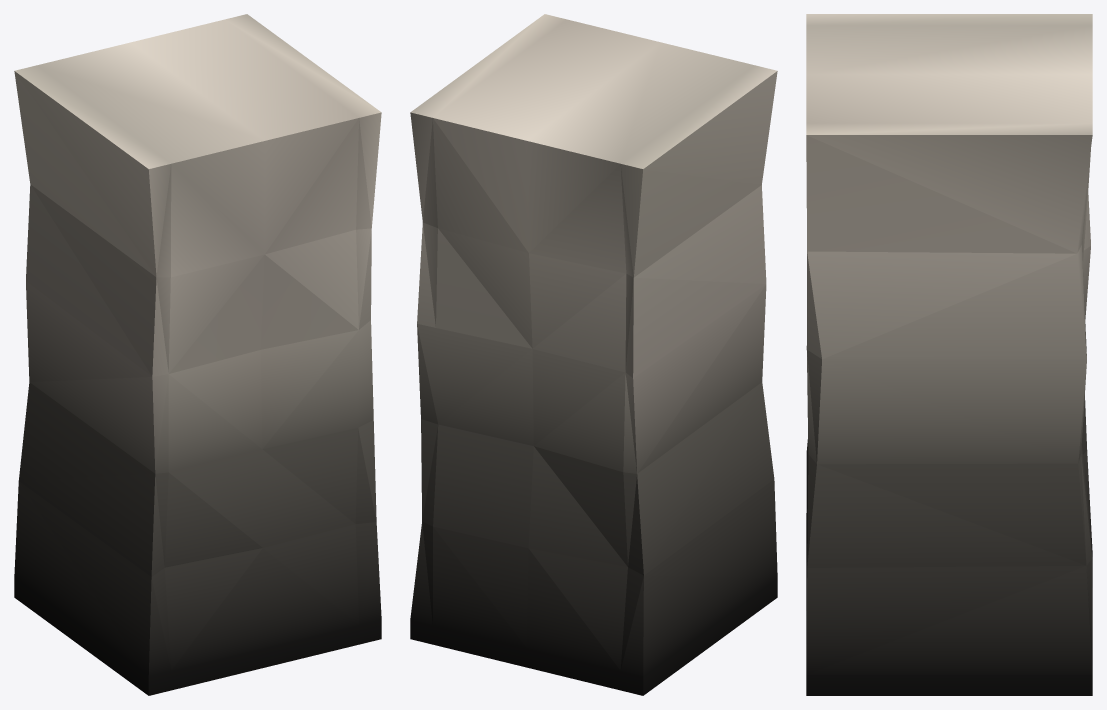
Rendered from SM_VKI_Post_Cave_Corner_Cut.fbx.
3 views of the same model, side by side, from view 1: azimuth 30°, elevation 25°; view 2: azimuth 150°, elevation 25°; view 3: azimuth 270°, elevation 25° (orthographic). The views are drawn at different scales.
Visible parts, largest first — view 1: SM_VKI_Post_Cave_Corner_Cut.001; view 2: SM_VKI_Post_Cave_Corner_Cut.001; view 3: SM_VKI_Post_Cave_Corner_Cut.001.
Boxes of the visible parts, x1=… form: SM_VKI_Post_Cave_Corner_Cut.001: x1=14, y1=14, x2=381, y2=695; SM_VKI_Post_Cave_Corner_Cut.001: x1=410, y1=14, x2=777, y2=695; SM_VKI_Post_Cave_Corner_Cut.001: x1=806, y1=14, x2=1092, y2=695.
Size of the model in its own units: 0.62 by 1.34 by 0.62.
